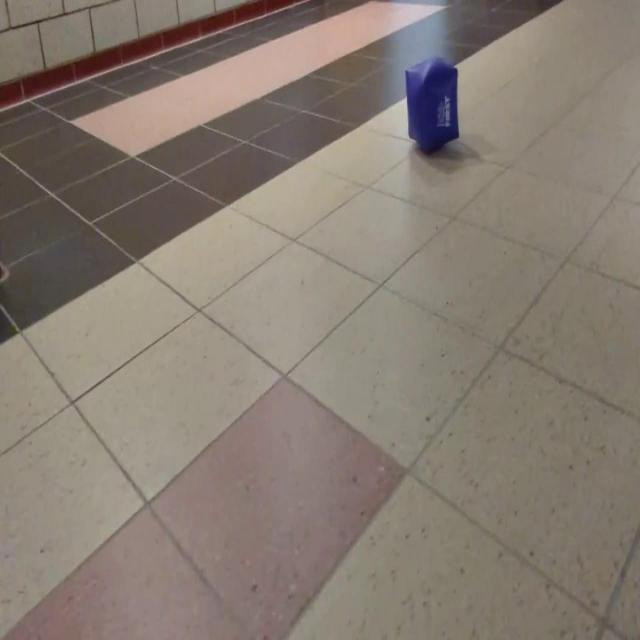frc_cube: (405, 60, 459, 154)
